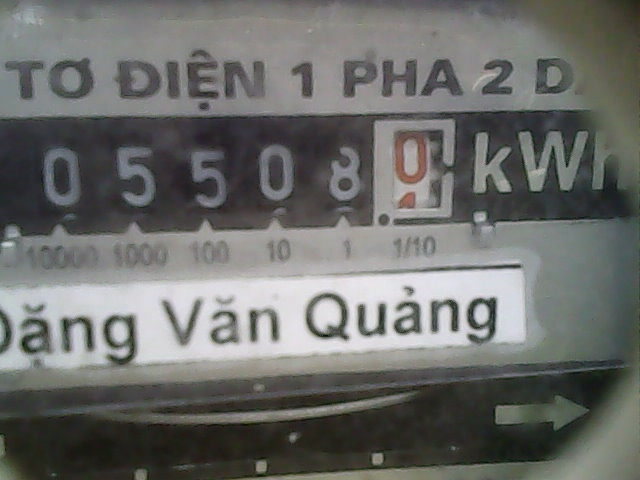phy_plate: (16, 113, 467, 231)
